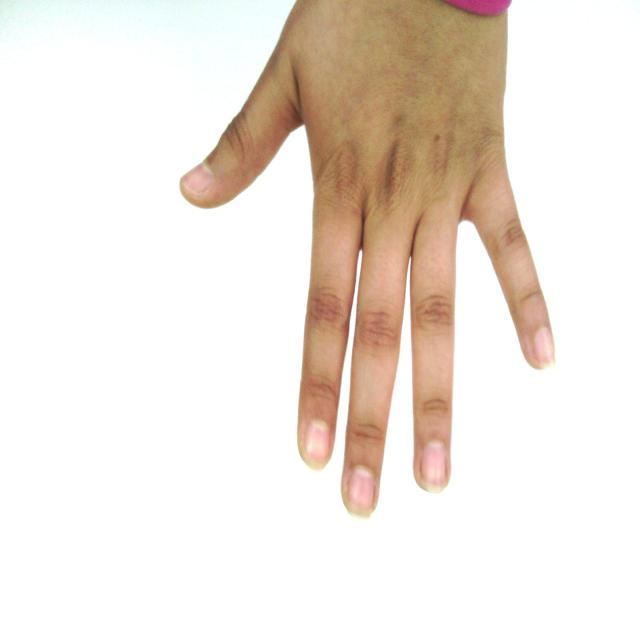Fingernail: (347, 466, 375, 517), (421, 441, 447, 493), (306, 421, 330, 469), (183, 166, 213, 195), (533, 328, 554, 369)
